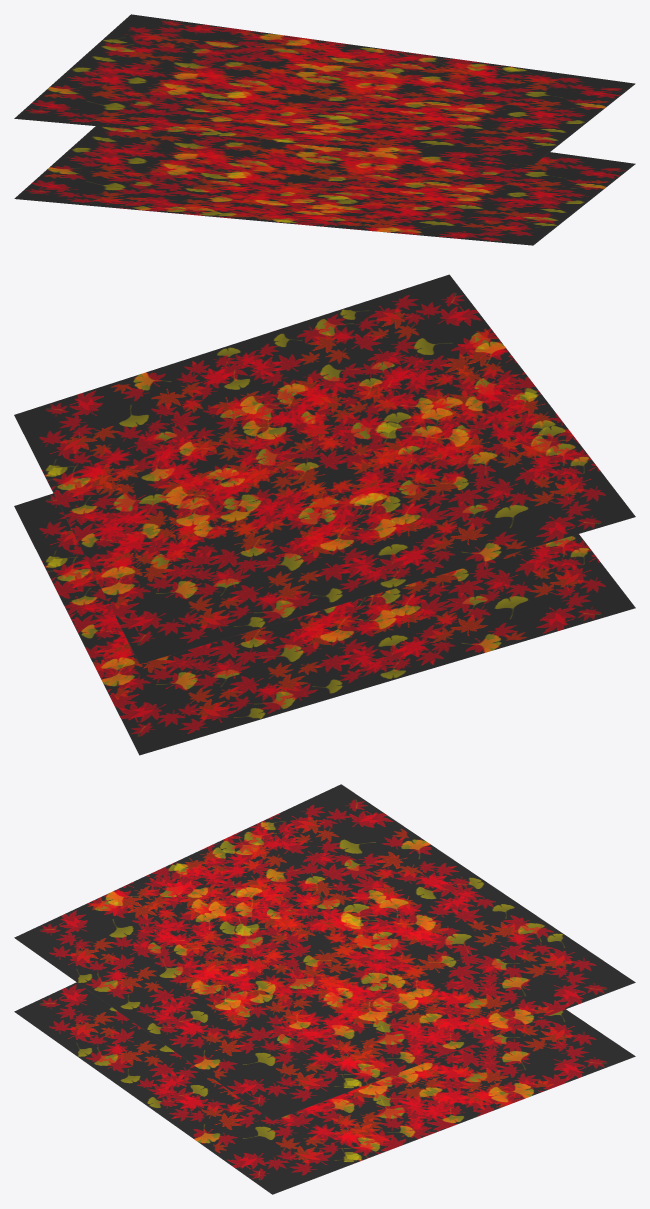
Rendered from OBJ_CourseAki_CurveFloor_3_8.fbx.
3 views of the same model, one above another, from view 1: azimuth 30°, elevation 25°; view 2: azimuth 150°, elevation 25°; view 3: azimuth 270°, elevation 25° (orthographic). The views are drawn at different scales.
Parts seen in each view (by area): view 1: polySurface112, polySurface113; view 2: polySurface112, polySurface113; view 3: polySurface112, polySurface113.
Boxes of the visible parts, left/top/right/bottom form: polySurface112: left=14, top=14, right=635, bottom=165; polySurface113: left=14, top=126, right=635, bottom=245; polySurface112: left=14, top=274, right=635, bottom=664; polySurface113: left=14, top=493, right=635, bottom=755; polySurface112: left=14, top=784, right=635, bottom=1120; polySurface113: left=14, top=982, right=635, bottom=1194.
Bounding box in the file's own units: 7.63 × 2 × 7.63.
1 material, 1 textured.
